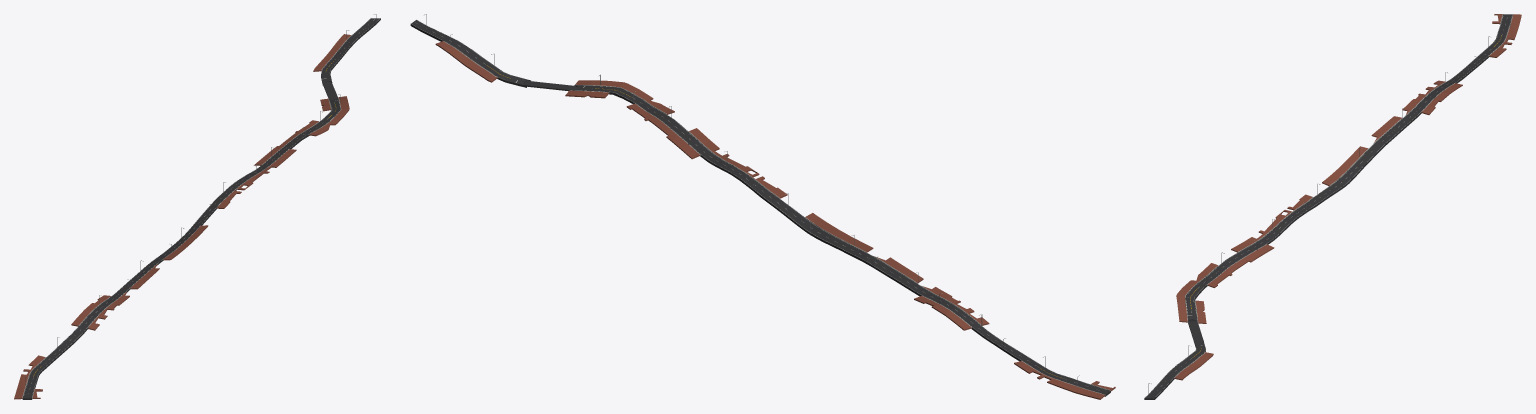
The picture shows the model from 3 angles, left to right: view 1: azimuth 90°, elevation 25°; view 2: azimuth 150°, elevation 25°; view 3: azimuth 270°, elevation 25°; orthographic projection. The views are drawn at different scales.
Bounding box in the file's own units: 588 × 16.95 × 242.
